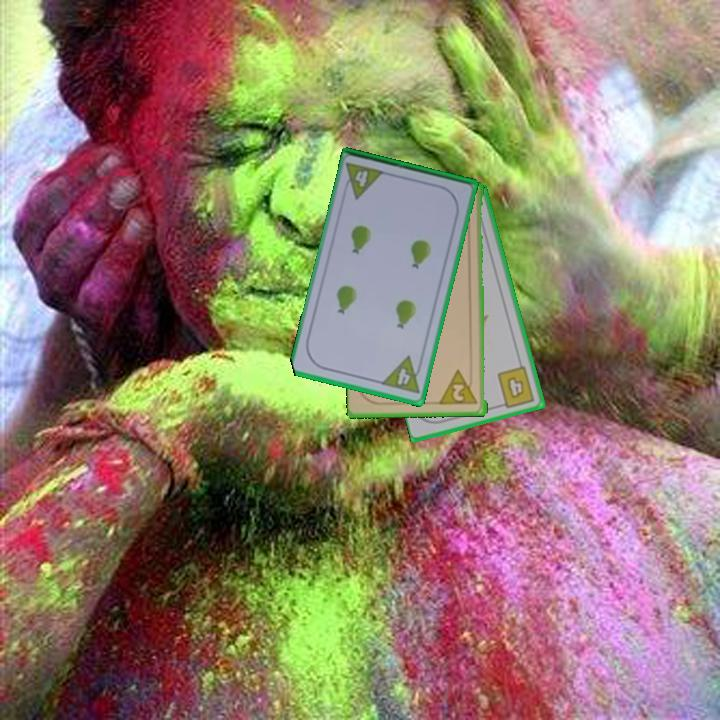2p: (438, 367, 481, 408)
4b: (494, 363, 538, 411)
4p: (378, 353, 426, 396), (339, 159, 388, 201)
